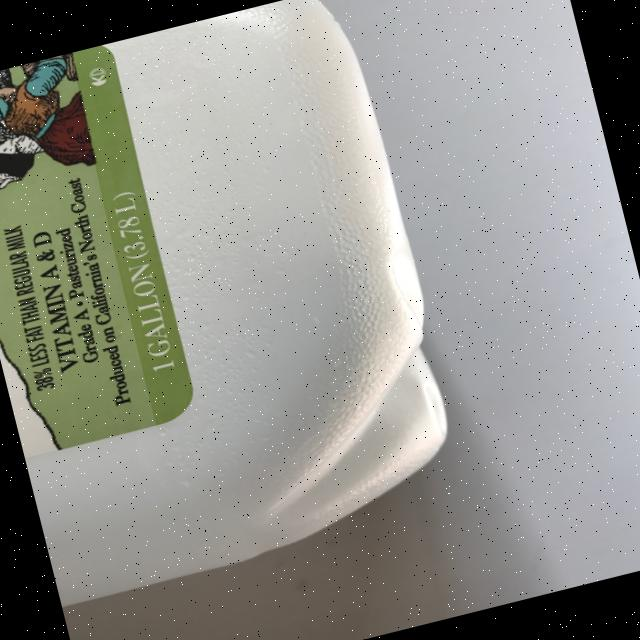plastic: (0, 0, 475, 607)
